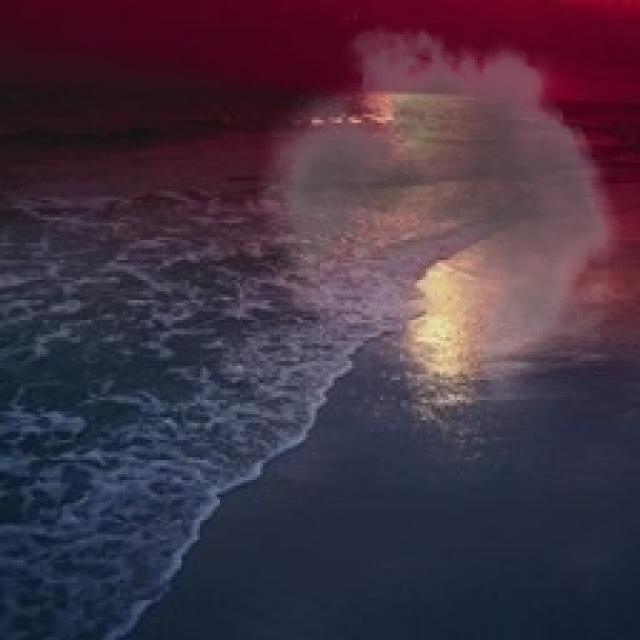Smoke: (257, 8, 634, 406)
